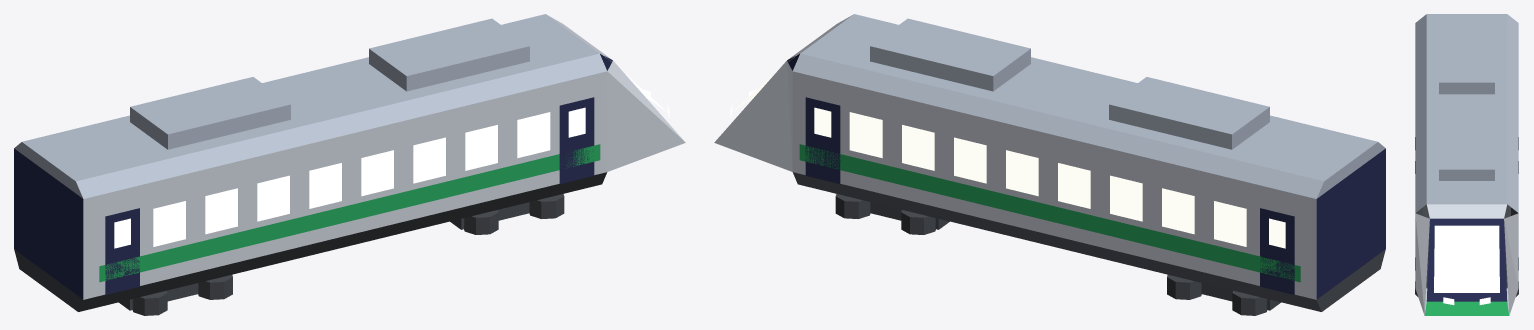
File: tra-emu900.glb
3 views of the same model, side by side, from view 1: azimuth 30°, elevation 25°; view 2: azimuth 150°, elevation 25°; view 3: azimuth 270°, elevation 25° (orthographic). The views are drawn at different scales.
Parts seen in each view (by area): view 1: tra-emu900_root; view 2: tra-emu900_root; view 3: tra-emu900_root.
Boxes of the visible parts, <box> form: tra-emu900_root: <box>14,14,685,315</box>; tra-emu900_root: <box>714,14,1385,315</box>; tra-emu900_root: <box>1415,14,1518,315</box>.
Size of the model in its own units: 15.85 by 4.04 by 3.18.
Materials: 2 (2 with a texture image).
